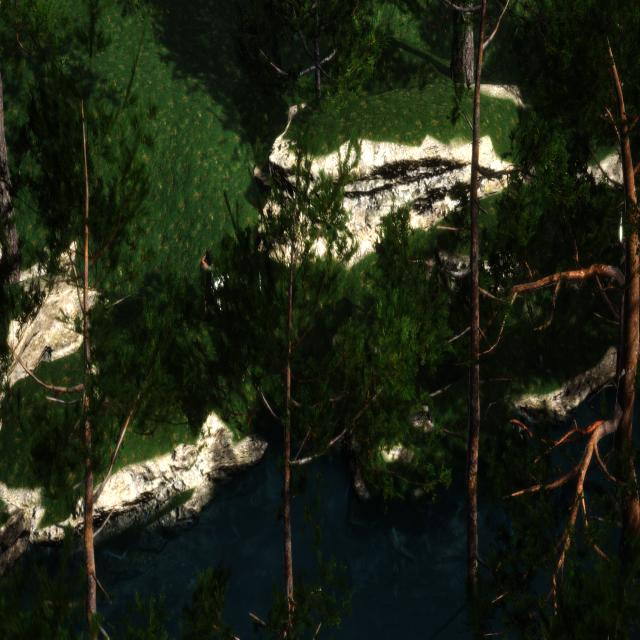Human: (198, 251, 256, 327)
